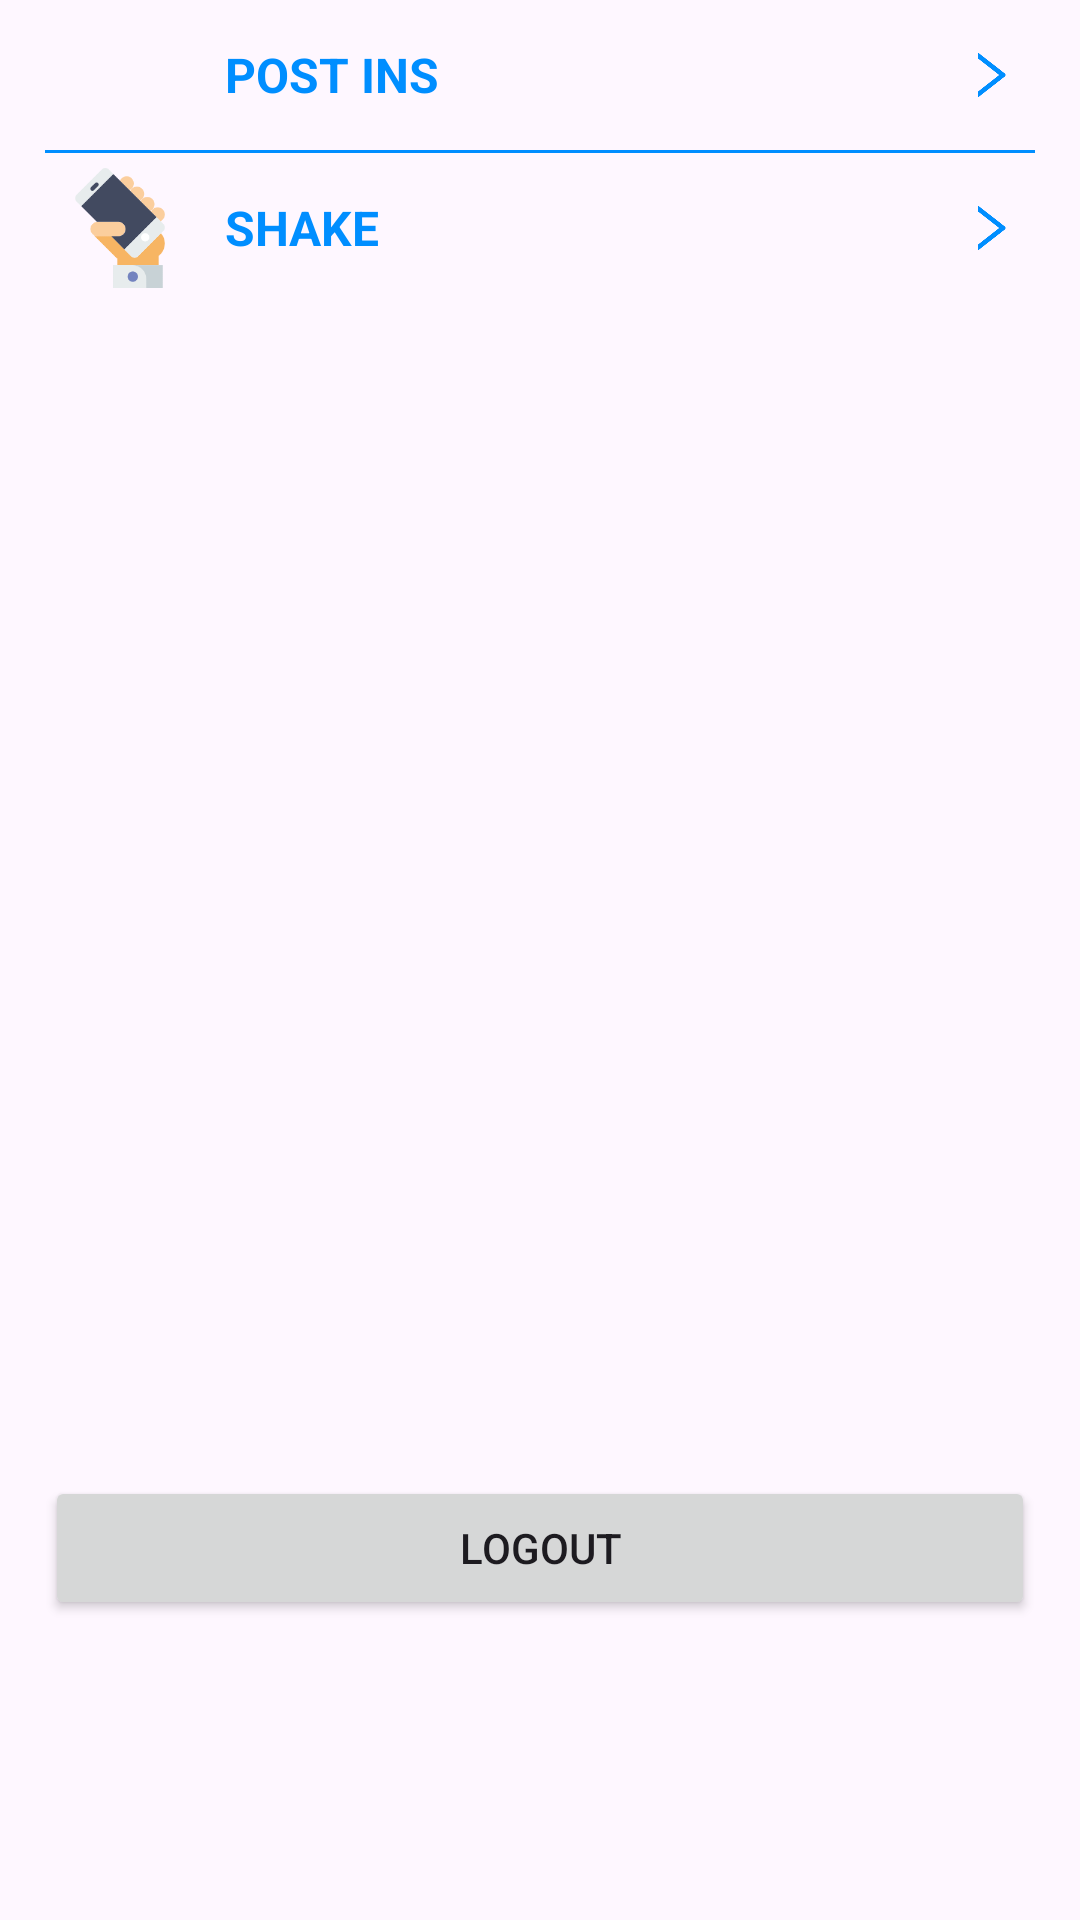

Locate icon controls on the screen. Image size 1080 x 1920, boxes as (x1, y1, x2, y2).
right: (978, 53, 1006, 97), (978, 206, 1006, 250)
